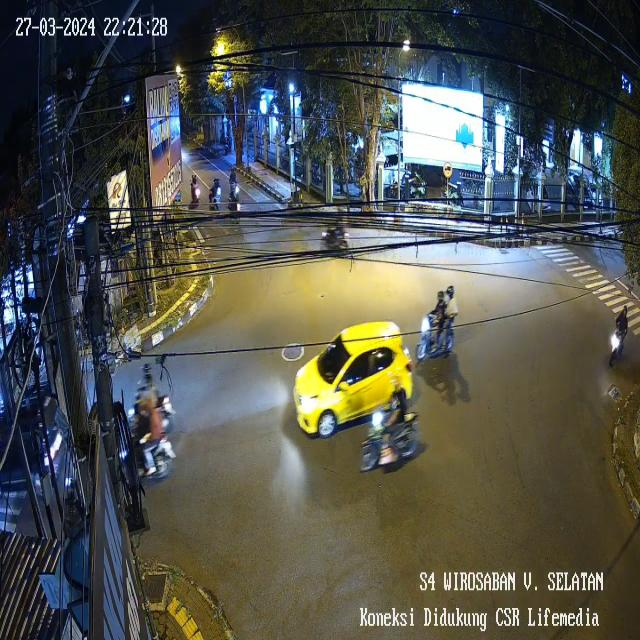car: (293, 315, 419, 441), (0, 385, 68, 496)
motorcycle: (357, 374, 421, 480), (118, 402, 180, 486), (123, 358, 182, 436), (416, 281, 459, 368), (316, 204, 354, 261), (609, 296, 632, 364), (208, 174, 226, 220), (190, 170, 203, 218), (227, 160, 243, 197), (227, 192, 243, 226)
